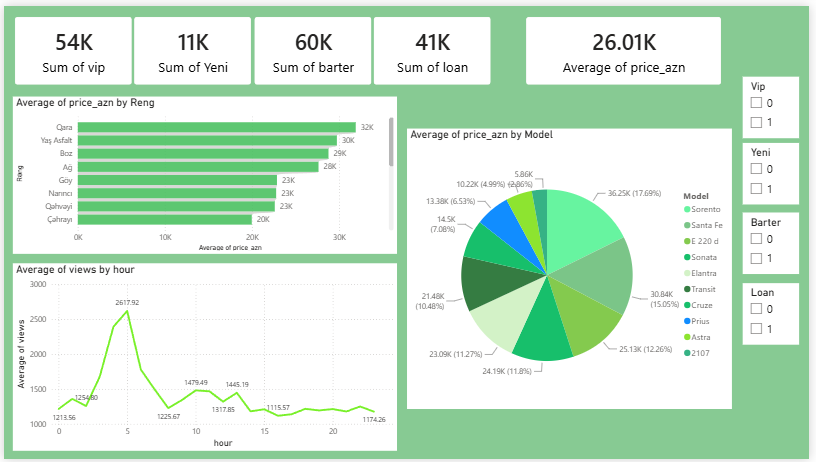

The page's visual inventory and layout, read from the dashboard file:
{"tool":"powerbi","page":{"name":"Page 2","canvas":[1280,720],"ordinal":1},"visuals":[{"type":"cardVisual","fields":{"Data":["Sum(turboaz_cars_cleaned_iqr.vip)"]},"box":[0,0,220,142],"z":0},{"type":"lineChart","fields":{"Y":["Avg(turboaz_cars_cleaned_iqr.views)"],"Category":["turboaz_cars_cleaned_iqr.hour"]},"box":[14,408,610,298],"z":1000},{"type":"slicer","fields":{"Values":["turboaz_cars_cleaned_iqr.Yeni"]},"box":[1174,218,90,98],"z":2000},{"type":"slicer","fields":{"Values":["turboaz_cars_cleaned_iqr.barter"]},"box":[1174,328,90,98],"z":3000},{"type":"slicer","fields":{"Values":["turboaz_cars_cleaned_iqr.loan"]},"box":[1174,440,90,98],"z":4000},{"type":"slicer","fields":{"Values":["turboaz_cars_cleaned_iqr.vip"]},"box":[1174,112,90,98],"z":5000},{"type":"cardVisual","fields":{"Data":["Sum(turboaz_cars_cleaned_iqr.Yeni)"]},"box":[190,0,220,142],"z":6000},{"type":"cardVisual","fields":{"Data":["Sum(turboaz_cars_cleaned_iqr.barter)"]},"box":[380,0,220,142],"z":7000},{"type":"cardVisual","fields":{"Data":["Sum(turboaz_cars_cleaned_iqr.loan)"]},"box":[570,0,220,142],"z":8000},{"type":"cardVisual","fields":{"Data":["Avg(turboaz_cars_cleaned_iqr.price_azn)"]},"box":[812,0,344,142],"z":9000},{"type":"pieChart","fields":{"Category":["turboaz_cars_cleaned_iqr.Model"],"Y":["Avg(turboaz_cars_cleaned_iqr.price_azn)"]},"box":[640,194,516,446],"z":10000},{"type":"barChart","title":"Average of price_azn by Reng","fields":{"Category":["turboaz_cars_cleaned_iqr.Rəng"],"Y":["Avg(turboaz_cars_cleaned_iqr.price_azn)"]},"box":[14,144,610,250],"z":11000}]}

Visuals, with their boxes in screenshot pixels (x1, y1, x2, y2), scaled from the page's 1280x720 canvas onto the 816x462 screenshot:
cardVisual - Sum(turboaz_cars_cleaned_iqr.vip): x1=0, y1=0, x2=140, y2=91
lineChart - Avg(turboaz_cars_cleaned_iqr.views) x turboaz_cars_cleaned_iqr.hour: x1=9, y1=262, x2=398, y2=453
slicer - turboaz_cars_cleaned_iqr.Yeni: x1=748, y1=140, x2=806, y2=203
slicer - turboaz_cars_cleaned_iqr.barter: x1=748, y1=210, x2=806, y2=273
slicer - turboaz_cars_cleaned_iqr.loan: x1=748, y1=282, x2=806, y2=345
slicer - turboaz_cars_cleaned_iqr.vip: x1=748, y1=72, x2=806, y2=135
cardVisual - Sum(turboaz_cars_cleaned_iqr.Yeni): x1=121, y1=0, x2=261, y2=91
cardVisual - Sum(turboaz_cars_cleaned_iqr.barter): x1=242, y1=0, x2=382, y2=91
cardVisual - Sum(turboaz_cars_cleaned_iqr.loan): x1=363, y1=0, x2=504, y2=91
cardVisual - Avg(turboaz_cars_cleaned_iqr.price_azn): x1=518, y1=0, x2=737, y2=91
pieChart - turboaz_cars_cleaned_iqr.Model x Avg(turboaz_cars_cleaned_iqr.price_azn): x1=408, y1=124, x2=737, y2=411
"Average of price_azn by Reng" barChart: x1=9, y1=92, x2=398, y2=253
